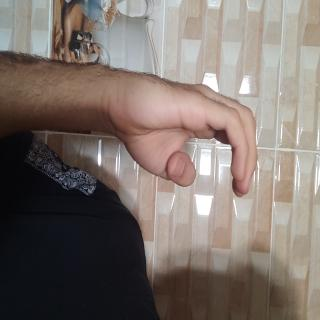JEEM: (49, 78, 151, 290)
